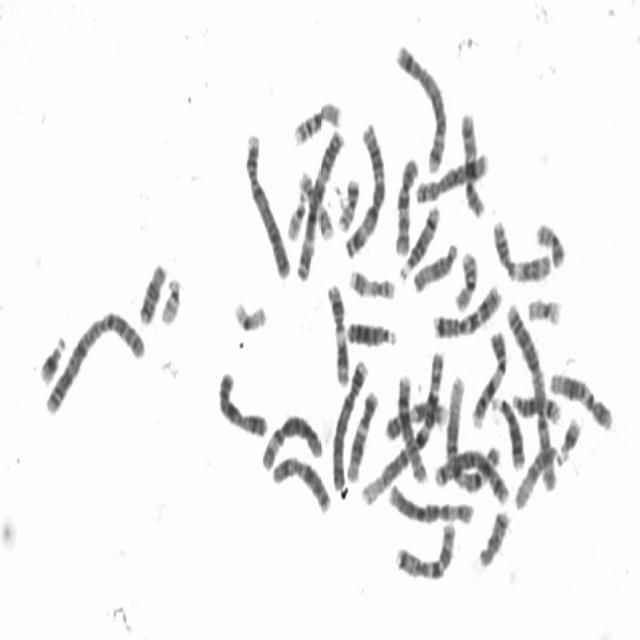A1: (357, 340, 449, 510), (440, 366, 510, 506)
A2: (40, 302, 148, 418), (502, 295, 559, 493)
A3: (294, 120, 348, 282), (340, 114, 388, 260)
B4: (242, 124, 292, 280), (328, 350, 370, 492)
B5: (392, 35, 450, 175), (430, 440, 508, 501)
C10: (457, 103, 488, 220), (391, 148, 421, 258)
C11: (489, 211, 553, 284), (324, 275, 351, 387)
C12: (546, 363, 616, 432), (343, 382, 381, 483)
C6: (256, 405, 324, 474), (386, 476, 476, 527)
C7: (429, 275, 504, 340), (392, 513, 458, 583)
C8: (410, 145, 491, 204), (393, 367, 429, 485)
C9: (468, 322, 510, 430), (380, 392, 450, 442)
D13: (488, 388, 527, 472), (342, 312, 398, 349)
D14: (396, 196, 442, 282), (508, 384, 564, 426)
D15: (510, 435, 560, 512), (409, 235, 460, 294)
E16: (289, 92, 344, 147), (450, 243, 480, 313)
E17: (294, 162, 337, 241), (345, 262, 398, 302)
E18: (475, 502, 512, 569), (135, 255, 168, 327)
F19: (230, 292, 270, 333), (524, 290, 564, 326)
F20: (532, 213, 568, 270), (334, 170, 362, 232)
G21: (35, 326, 68, 386), (553, 409, 583, 466)
G22: (157, 269, 184, 327), (283, 186, 308, 242)
X: (268, 448, 334, 515), (215, 363, 270, 439)
